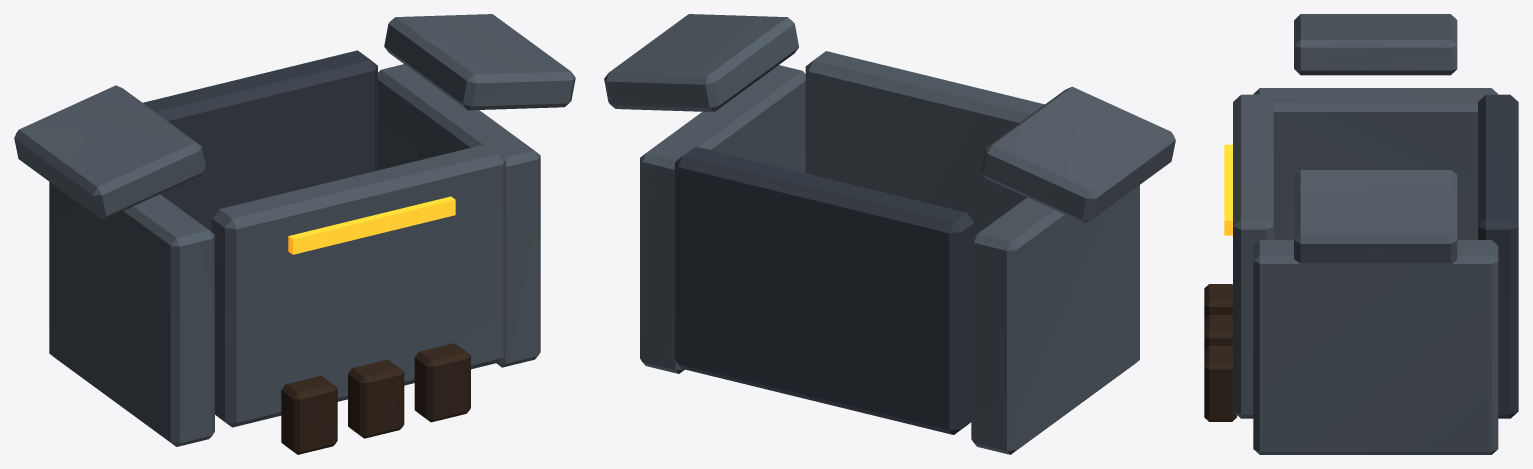
File: gear.torso.gunner_vest.glb
3 renders of one model, left to right at view 1: azimuth 30°, elevation 25°; view 2: azimuth 150°, elevation 25°; view 3: azimuth 270°, elevation 25°, orthographic. The views are drawn at different scales.
Visible parts, largest first — view 1: spine@gunner_vest.base, spine@gunner_vest.emissive.orange; view 2: spine@gunner_vest.base; view 3: spine@gunner_vest.base, spine@gunner_vest.emissive.orange.
Boxes of the visible parts, x1,y1,x2,y2 form: spine@gunner_vest.base: (14,14,575,454); spine@gunner_vest.emissive.orange: (288,196,455,254); spine@gunner_vest.base: (604,14,1175,454); spine@gunner_vest.base: (1204,14,1518,454); spine@gunner_vest.emissive.orange: (1224,144,1232,235).
Size of the model in its own units: 0.6528 by 0.3754 by 0.385.
